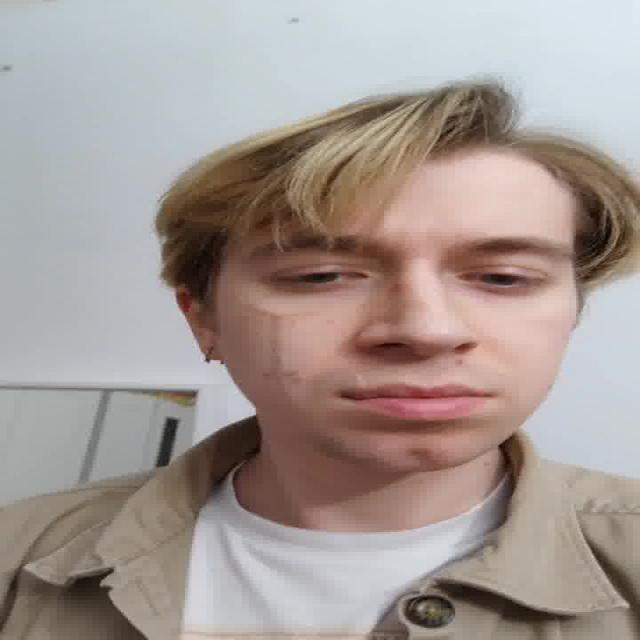earlobe: (174, 282, 225, 359)
